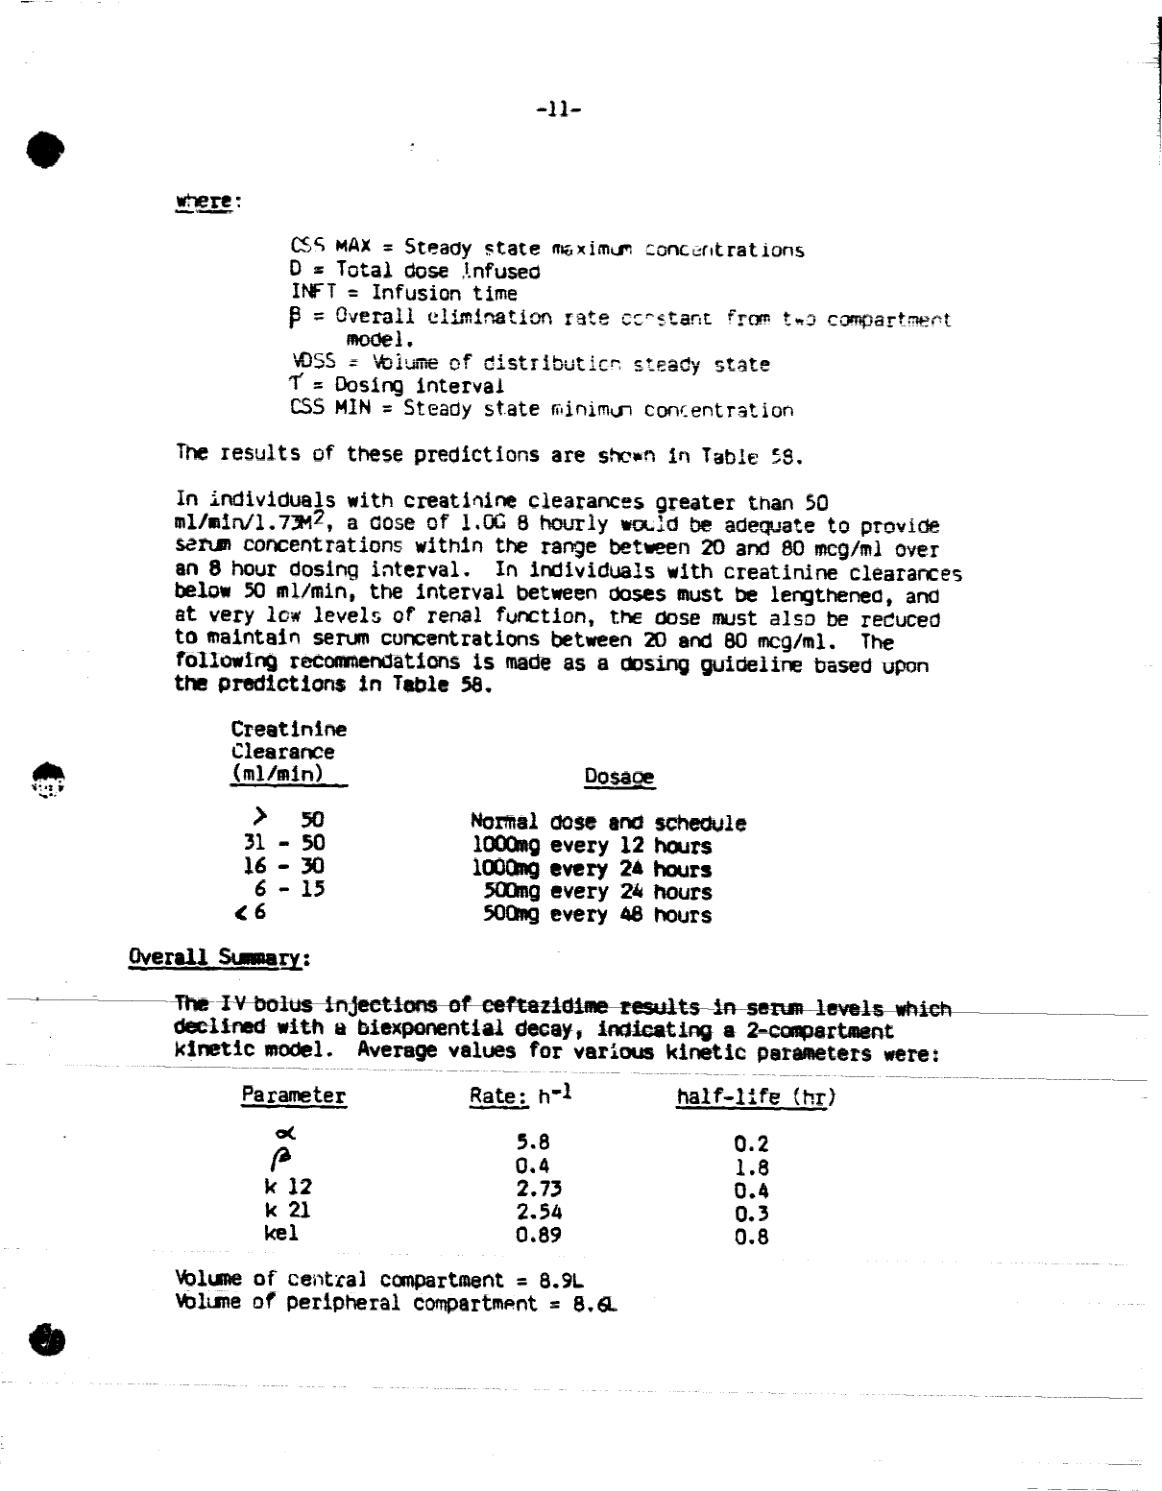nolines: (222, 716, 750, 923), (236, 1082, 836, 1247)
